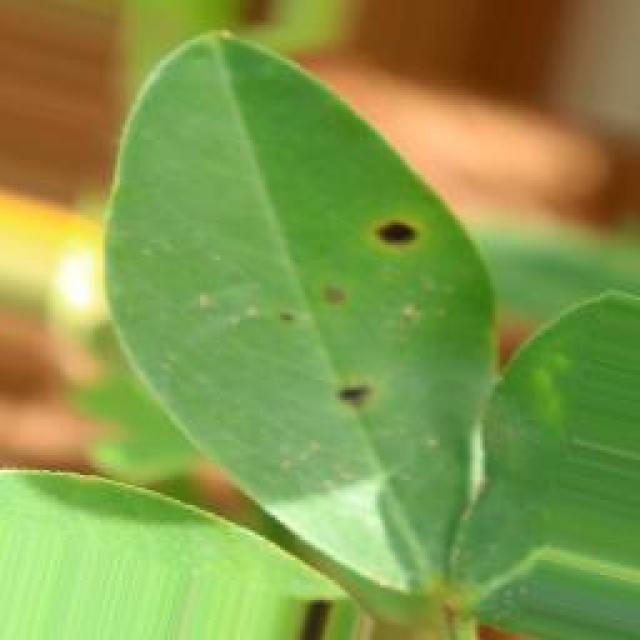Sigatoka: (300, 350, 394, 427), (256, 268, 368, 328), (353, 202, 423, 254)
